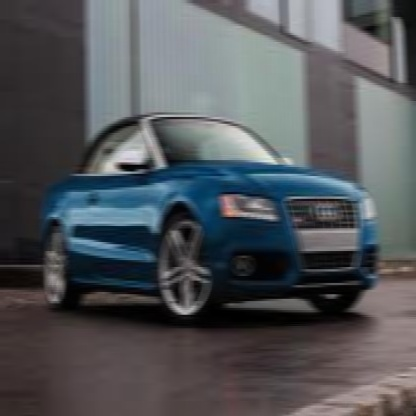Vehicle: (39, 114, 383, 332)
